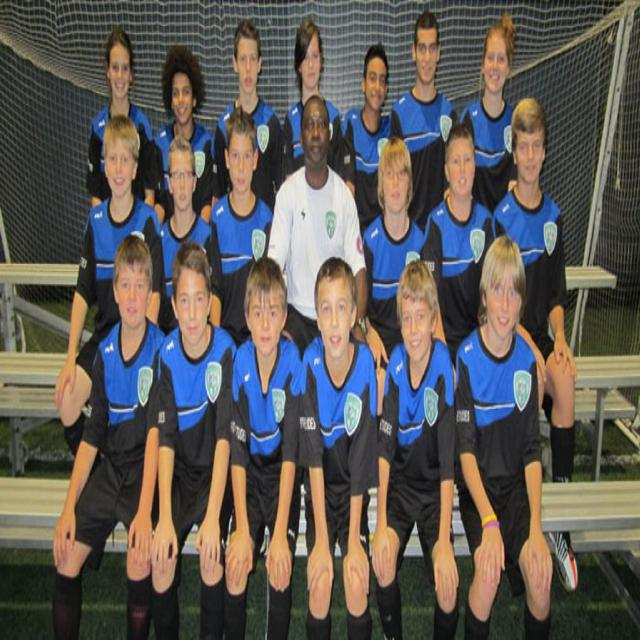Face: (318, 271, 358, 364), (246, 276, 289, 358), (489, 246, 527, 332), (113, 250, 150, 334), (177, 262, 211, 345), (400, 286, 433, 371), (513, 109, 546, 190), (224, 131, 258, 201), (105, 135, 137, 203), (380, 152, 411, 222), (169, 135, 195, 210), (168, 62, 198, 125), (450, 132, 478, 198), (238, 29, 262, 104), (108, 37, 135, 103), (304, 100, 329, 170), (417, 13, 440, 88), (485, 31, 510, 98), (300, 26, 325, 92), (367, 48, 389, 113)
